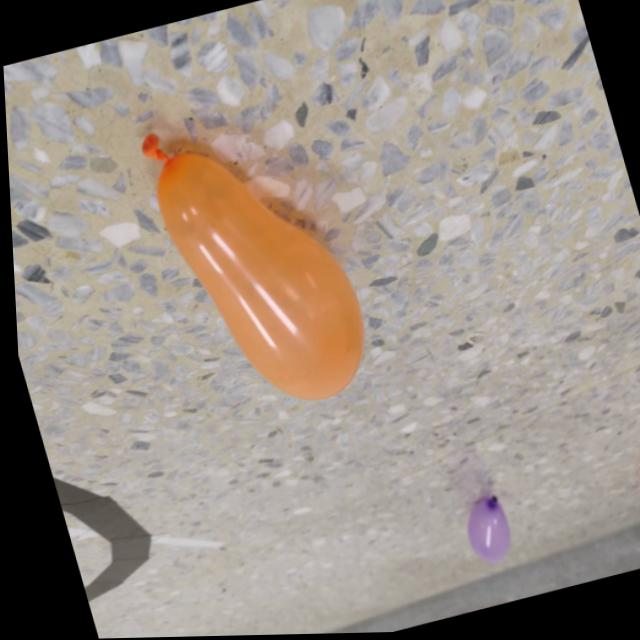other: (130, 96, 382, 430), (452, 493, 512, 569)
red: (638, 468, 640, 539)
